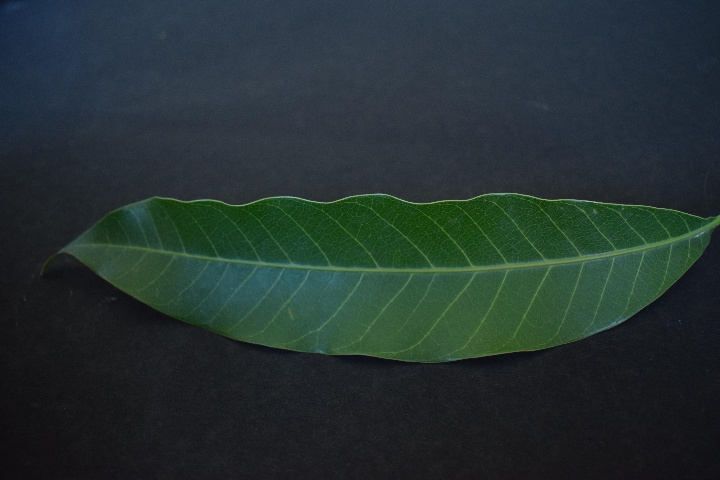healthy: (66, 186, 691, 369)
